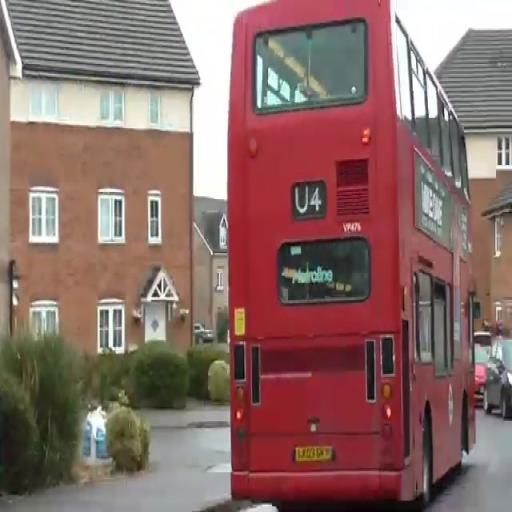onibus: (214, 0, 486, 512)
